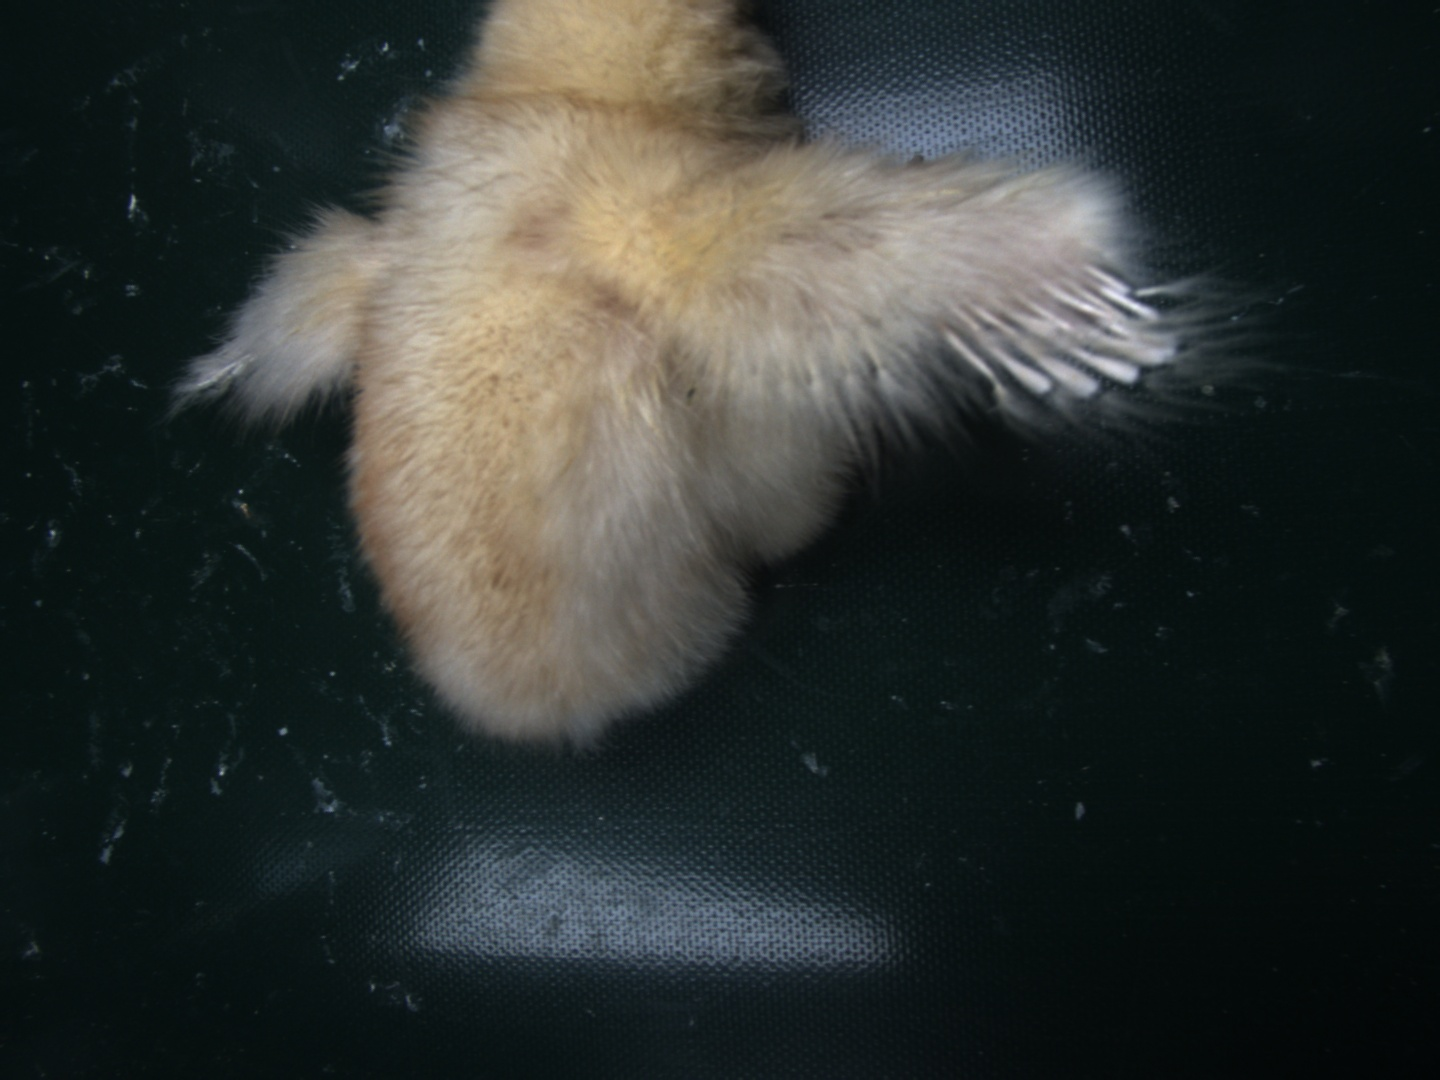female: (934, 253, 1187, 403)
